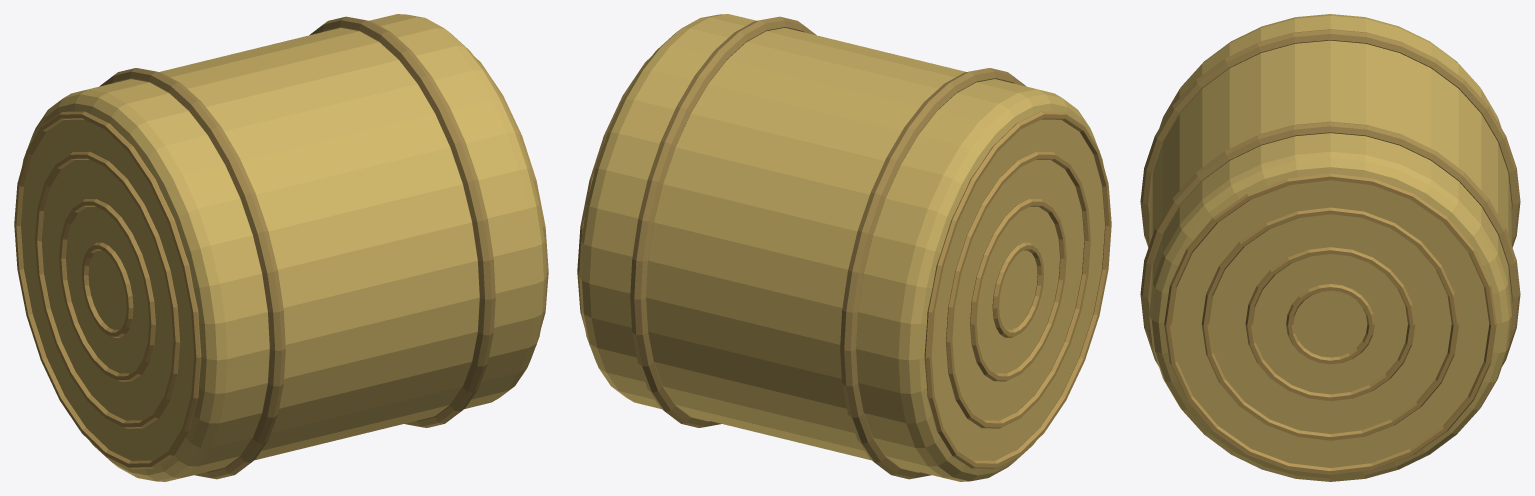
File: hay.glb
3 views of the same model, side by side, from view 1: azimuth 30°, elevation 25°; view 2: azimuth 150°, elevation 25°; view 3: azimuth 270°, elevation 25° (orthographic). The views are drawn at different scales.
Parts seen in each view (by area): view 1: straw_bundle, Torus.001, Torus, Torus.005, Torus.004, Torus.003, Torus.002, Torus.009; view 2: straw_bundle, Torus.001, Torus, Torus.005, Torus.004, Torus.003, Torus.002, Torus.009; view 3: straw_bundle, Torus.009, Torus.001, Torus, Torus.008, Torus.007, Torus.006.
Part boxes in pixels (x1=…): straw_bundle: x1=21, y1=14, x2=546, y2=481; Torus.001: x1=309, y1=16, x2=495, y2=427; Torus: x1=99, y1=68, x2=285, y2=479; Torus.005: x1=14, y1=111, x2=201, y2=468; Torus.004: x1=35, y1=151, x2=179, y2=428; Torus.003: x1=59, y1=199, x2=155, y2=381; Torus.002: x1=81, y1=242, x2=133, y2=337; Torus.009: x1=475, y1=57, x2=548, y2=345; straw_bundle: x1=579, y1=14, x2=1104, y2=481; Torus.001: x1=630, y1=16, x2=816, y2=427; Torus: x1=840, y1=68, x2=1026, y2=479; Torus.005: x1=924, y1=111, x2=1111, y2=468; Torus.004: x1=946, y1=151, x2=1090, y2=428; Torus.003: x1=970, y1=199, x2=1066, y2=381; Torus.002: x1=992, y1=242, x2=1044, y2=337; Torus.009: x1=577, y1=57, x2=650, y2=345; straw_bundle: x1=1149, y1=14, x2=1511, y2=481; Torus.009: x1=1164, y1=173, x2=1496, y2=474; Torus.001: x1=1140, y1=121, x2=1520, y2=366; Torus: x1=1140, y1=29, x2=1520, y2=247; Torus.008: x1=1201, y1=207, x2=1459, y2=440; Torus.007: x1=1245, y1=247, x2=1415, y2=401; Torus.006: x1=1286, y1=284, x2=1374, y2=364.
Size of the model in its own units: 1.17 by 1.22 by 1.22.
